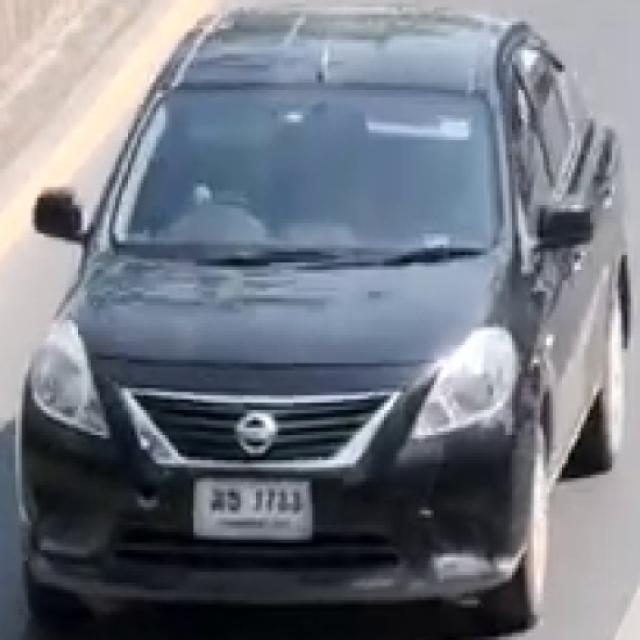plate: (195, 482, 312, 539)
